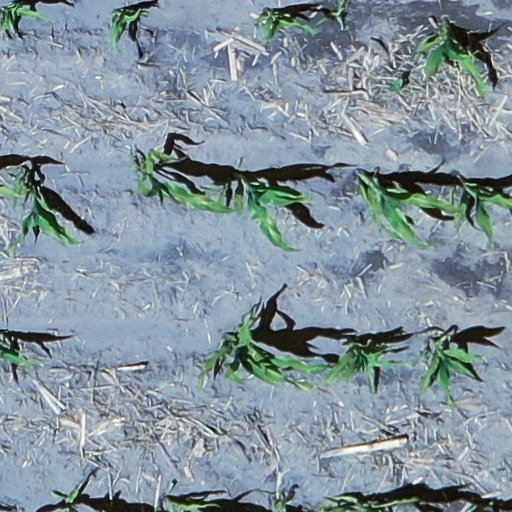planta: (199, 300, 328, 390), (356, 173, 470, 248), (127, 149, 243, 215), (402, 22, 490, 97), (321, 341, 412, 397), (245, 181, 313, 252), (420, 336, 484, 407), (257, 11, 315, 41), (109, 8, 150, 50)
